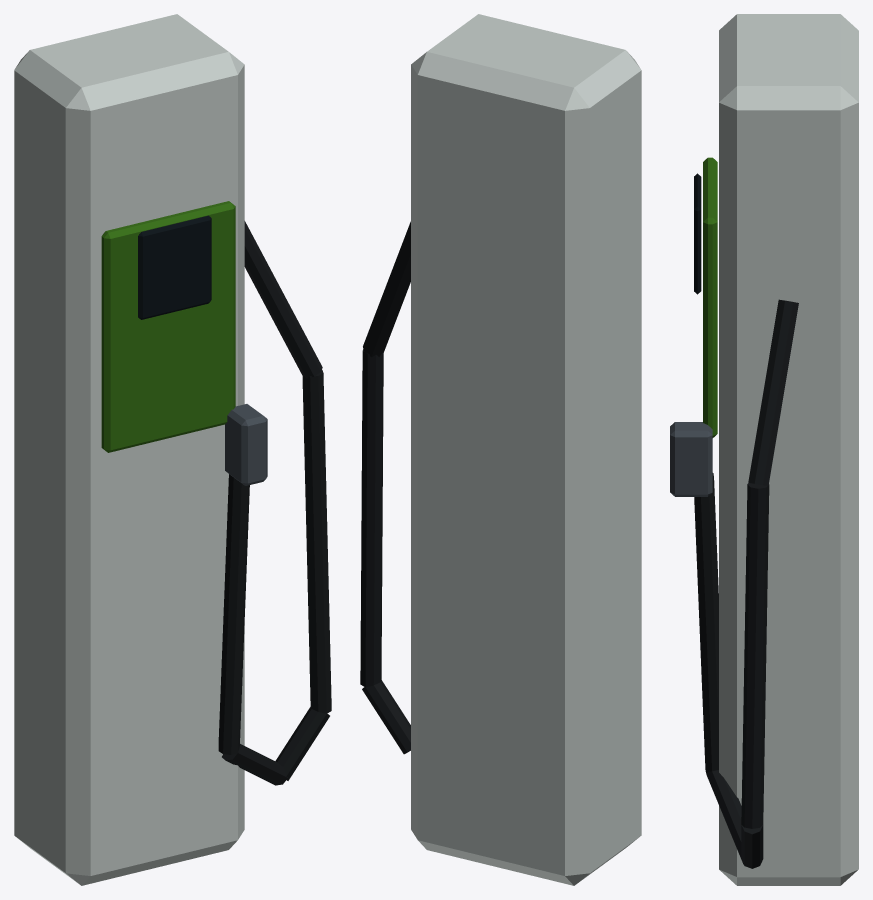
File: EVChargerPedestal.fbx
3 views of the same model, side by side, from view 1: azimuth 30°, elevation 25°; view 2: azimuth 150°, elevation 25°; view 3: azimuth 270°, elevation 25° (orthographic).
Visible parts, largest first — view 1: EVChargerPedestal; view 2: EVChargerPedestal; view 3: EVChargerPedestal.
Part boxes in pixels (bbox=[...]): EVChargerPedestal: bbox=[14, 14, 331, 885]; EVChargerPedestal: bbox=[360, 14, 641, 885]; EVChargerPedestal: bbox=[670, 14, 858, 885].
Bounding box in the file's own units: 51.8 × 145 × 31.
1 material, 1 textured.
